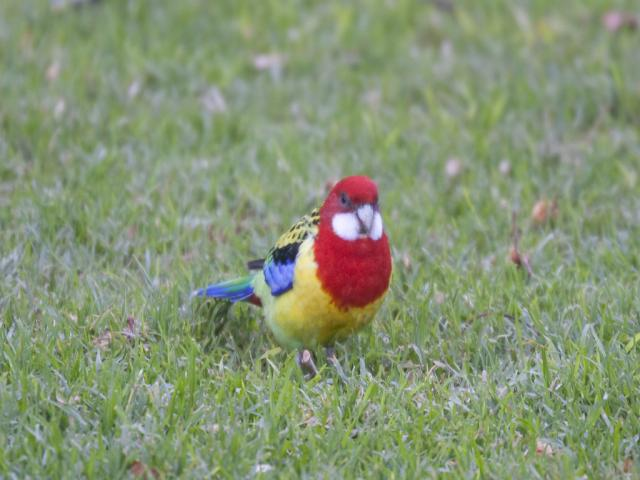Bird: (190, 174, 397, 379)
